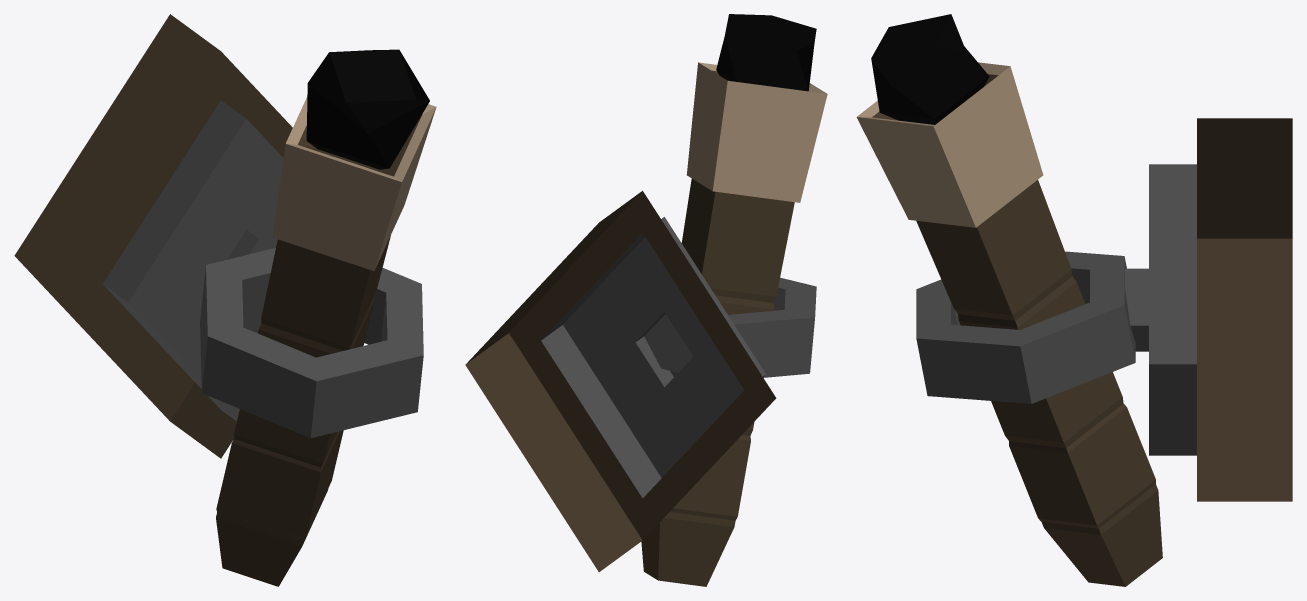
File: WallTorch.fbx
3 renders of one model, left to right at view 1: azimuth 30°, elevation 25°; view 2: azimuth 150°, elevation 25°; view 3: azimuth 270°, elevation 25°, orthographic. The views are drawn at different scales.
Parts seen in each view (by area): view 1: WallTorch; view 2: WallTorch; view 3: WallTorch.
Part boxes in pixels (x1=…): WallTorch: x1=14, y1=14, x2=436, y2=586; WallTorch: x1=465, y1=14, x2=827, y2=586; WallTorch: x1=856, y1=14, x2=1292, y2=586.
Size of the model in its own units: 35.36 by 64.36 by 45.57.
